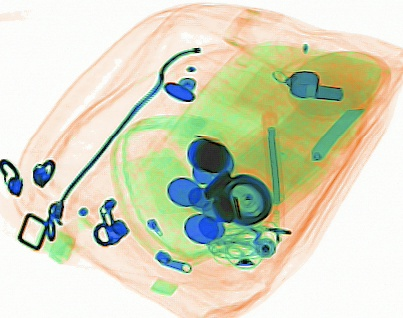knife: (305, 106, 367, 166)
